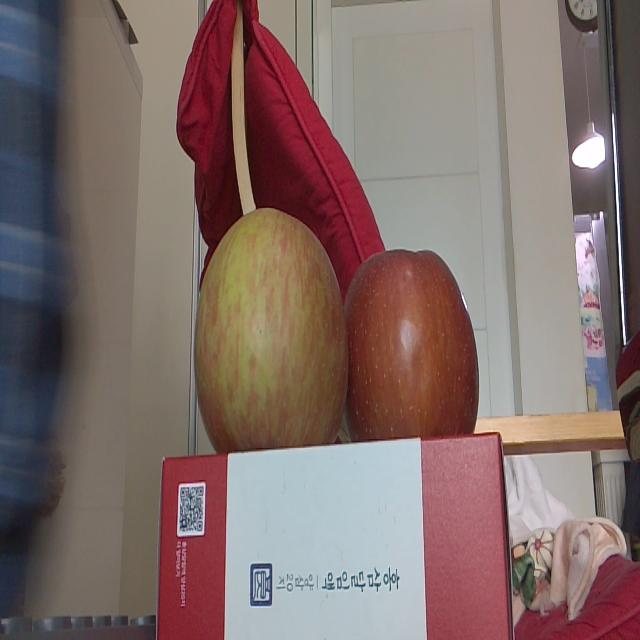apple: (195, 209, 349, 442), (341, 251, 480, 434)
